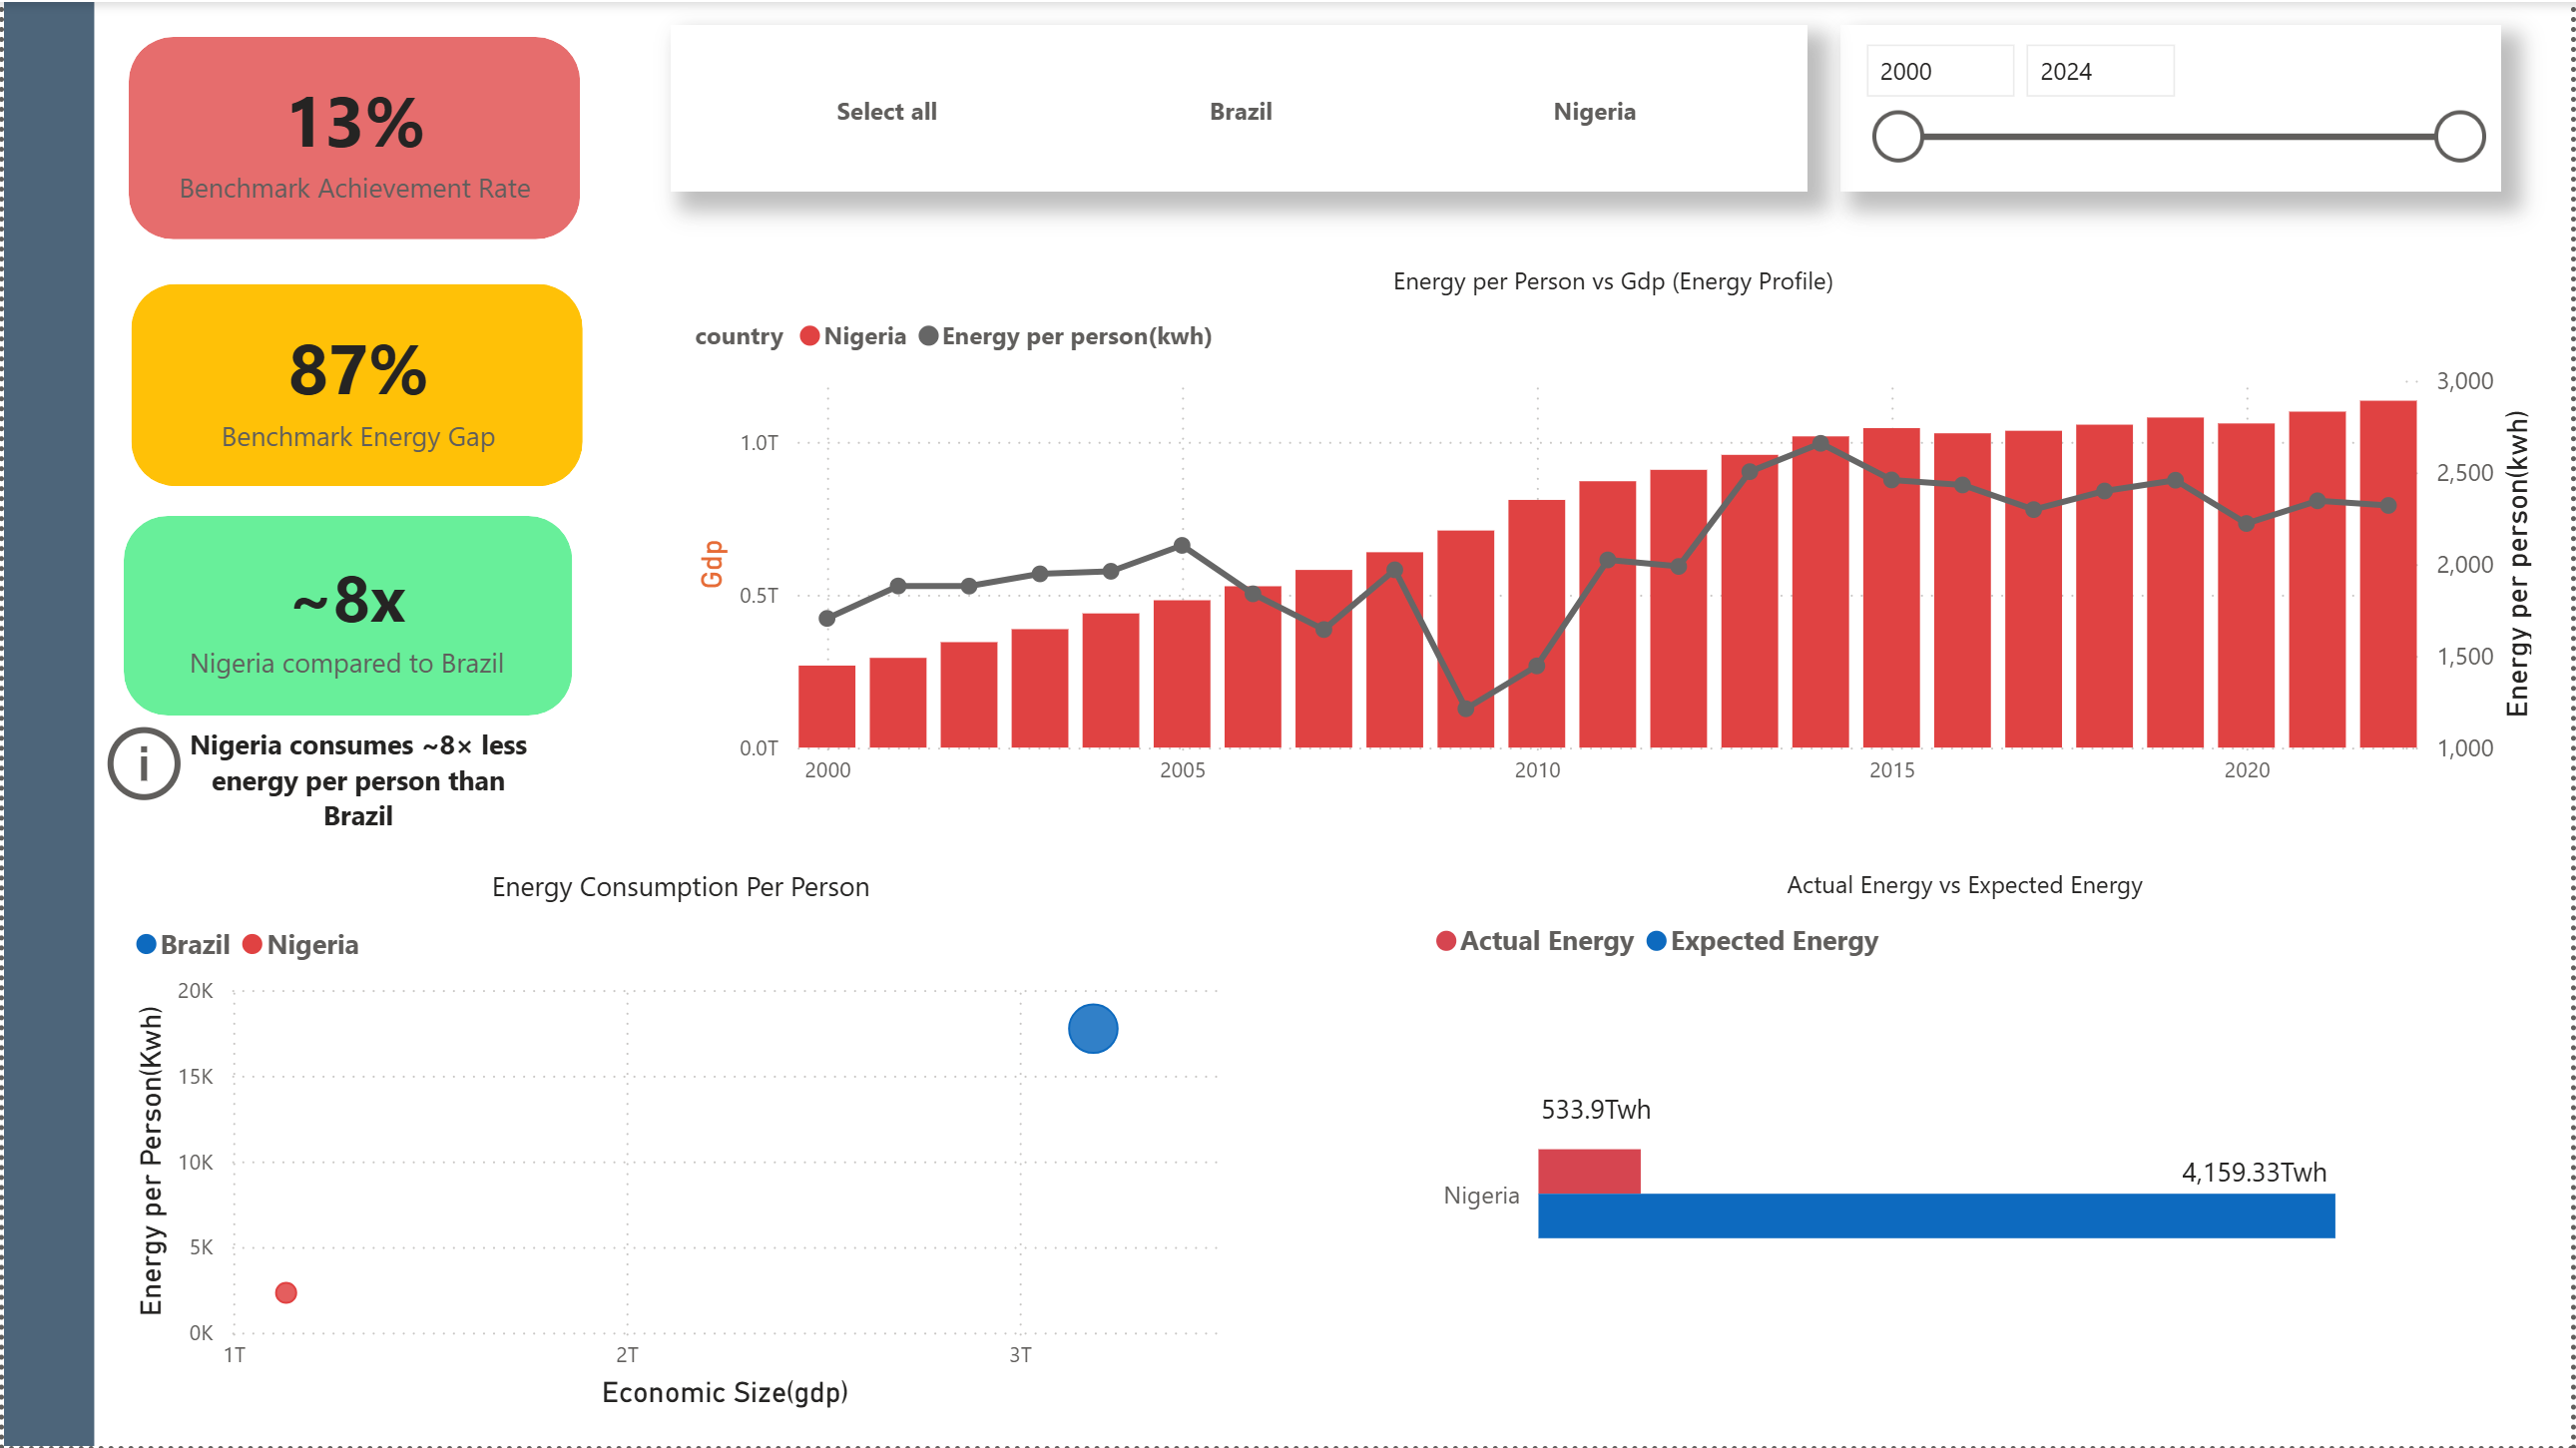

What the dashboard file says about the page in this screenshot:
{"tool":"powerbi","page":{"name":"Energy Gap","canvas":[1280,720],"ordinal":2},"visuals":[{"type":"shape","box":[0,0,45,720.3],"z":0},{"type":"shape","box":[62.6,17,225.1,101],"z":0,"group":"g1"},{"type":"shape","box":[63.4,140.6,225.1,101],"z":0,"group":"g2"},{"type":"shape","box":[59.7,255.8,223.6,99.6],"z":0,"group":"g3"},{"type":"card","fields":{"Values":["Sum(_nigeria_energy_gap.actual_vs_expected)"]},"box":[62.3,16.3,225.2,102],"z":1000,"group":"g1"},{"type":"card","fields":{"Values":["Sum(_nigeria_energy_gap.energy_gap)"]},"box":[64.8,140.6,223.6,101],"z":1000,"group":"g2"},{"type":"card","fields":{"Values":["Measure Table.Energy Ratio (Display)"]},"box":[78.5,250,184.7,111.1],"z":1000,"group":"g3"},{"type":"scatterChart","title":"Energy Consumption Per Person","fields":{"Series":["energy_consumption_trend.country"],"Size":["Measure Table.Total Energy"],"X":["energy_consumption_trend.gdp"],"Y":["energy_consumption_trend.energy_per_capita_kwh"]},"box":[59.2,431.4,555.5,274.1],"z":1000},{"type":"group","id":"g1","title":"KPI 2","box":[62.3,16.3,224.7,101.5],"z":2000},{"type":"lineClusteredColumnComboChart","title":"Energy per Person vs Gdp (Energy Profile)","fields":{"Series":["energy_consumption_trend.country"],"Category":["energy_consumption_trend.year_date"],"Y":["Sum(energy_consumption_trend.gdp)"],"Y2":["Sum(energy_consumption_trend.energy_per_capita_kwh)"]},"box":[339.6,130.6,925.5,269.9],"z":3000},{"type":"clusteredBarChart","title":"Actual Energy vs Expected Energy","fields":{"Y":["Sum(_nigeria_energy_gap.nigeria_actual_energy)","Sum(_nigeria_energy_gap.nigeria_expected_energy_twh)"],"Category":["_nigeria_energy_gap.country"]},"box":[708.4,431.4,539.6,274.1],"z":4000},{"type":"textbox","box":[761.3,537.4,80.9,31.1],"z":5000},{"type":"textbox","box":[1081,568.5,87.1,39.8],"z":6000},{"type":"group","id":"g2","title":"KPI 1","box":[63.4,140.6,225.2,100.8],"z":7000},{"type":"group","id":"g3","title":"KPI 3","box":[59.7,250,223.9,110.7],"z":8000},{"type":"textbox","box":[79.6,355.8,194.1,67.2],"z":9000},{"type":"actionButton","box":[46.2,349.1,47.6,60.6],"z":10000},{"type":"slicer","fields":{"Values":["country.country"]},"box":[332.1,11.2,567.2,83.3],"z":11000},{"type":"slicer","fields":{"Values":["year_date.year_date.Variation.Date Hierarchy.Year"]},"box":[915.6,11.2,329.6,83.3],"z":12000}]}

Visuals, with their boxes in screenshot pixels (x1, y1, x2, y2), scaled from the page's 1280x720 canvas onto the 2576x1448 screenshot:
shape: [0, 0, 91, 1447]
shape: [126, 34, 579, 238]
shape: [128, 282, 581, 486]
shape: [120, 515, 570, 715]
card - Sum(_nigeria_energy_gap.actual_vs_expected): [126, 33, 579, 238]
card - Sum(_nigeria_energy_gap.energy_gap): [131, 282, 581, 486]
card - Measure Table.Energy Ratio (Display): [158, 503, 530, 726]
"Energy Consumption Per Person" scatterChart: [119, 867, 1237, 1419]
"KPI 2" group: [126, 33, 578, 237]
"Energy per Person vs Gdp (Energy Profile)" lineClusteredColumnComboChart: [684, 262, 2546, 805]
"Actual Energy vs Expected Energy" clusteredBarChart: [1425, 867, 2511, 1419]
textbox: [1532, 1081, 1695, 1144]
textbox: [2176, 1144, 2350, 1223]
"KPI 1" group: [128, 282, 581, 485]
"KPI 3" group: [120, 503, 571, 725]
textbox: [161, 716, 551, 850]
actionButton: [93, 703, 189, 824]
slicer - country.country: [669, 23, 1809, 190]
slicer - year_date.year_date.Variation.Date Hierarchy.Year: [1842, 23, 2506, 190]
